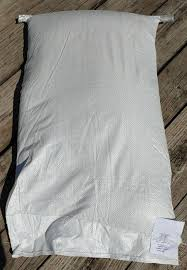feed_bag: (3, 6, 186, 269)
